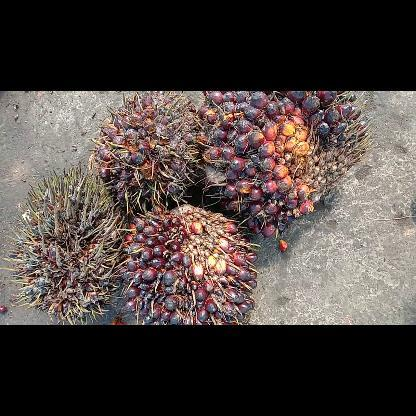Kurang masak: (119, 204, 257, 324), (92, 91, 204, 209)
TBS abnormal: (7, 165, 124, 324)
TBS masak: (198, 91, 368, 241)
